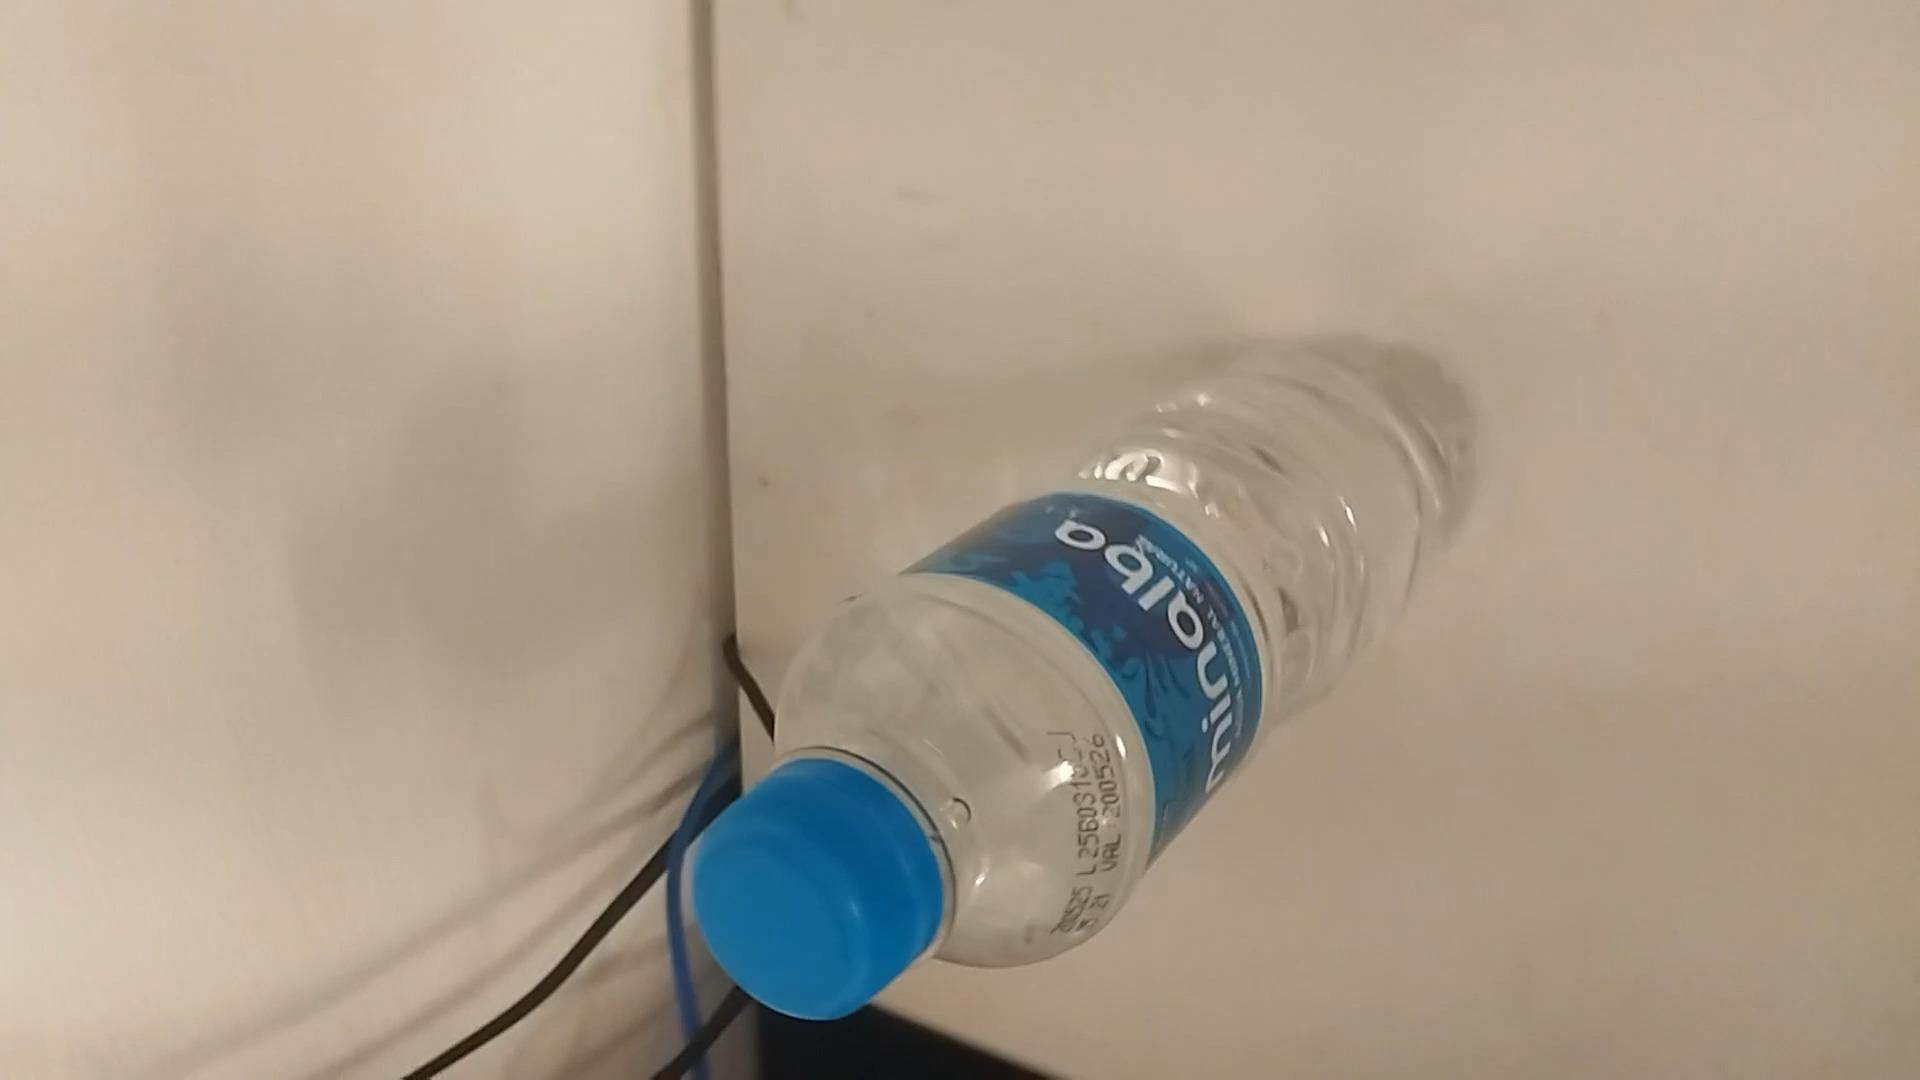agua: (696, 344, 1449, 1017)
